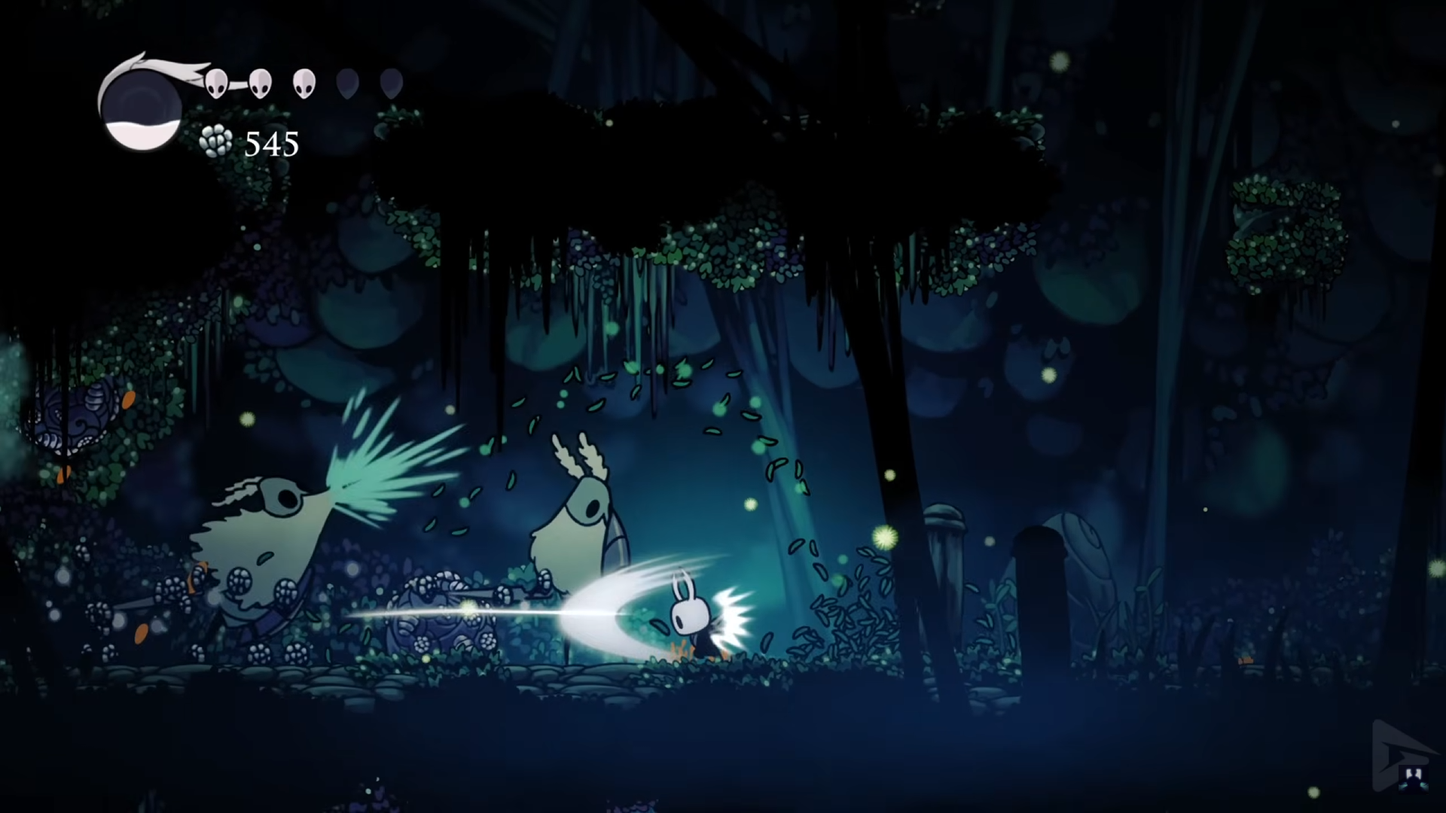HK: (654, 572, 731, 667)
